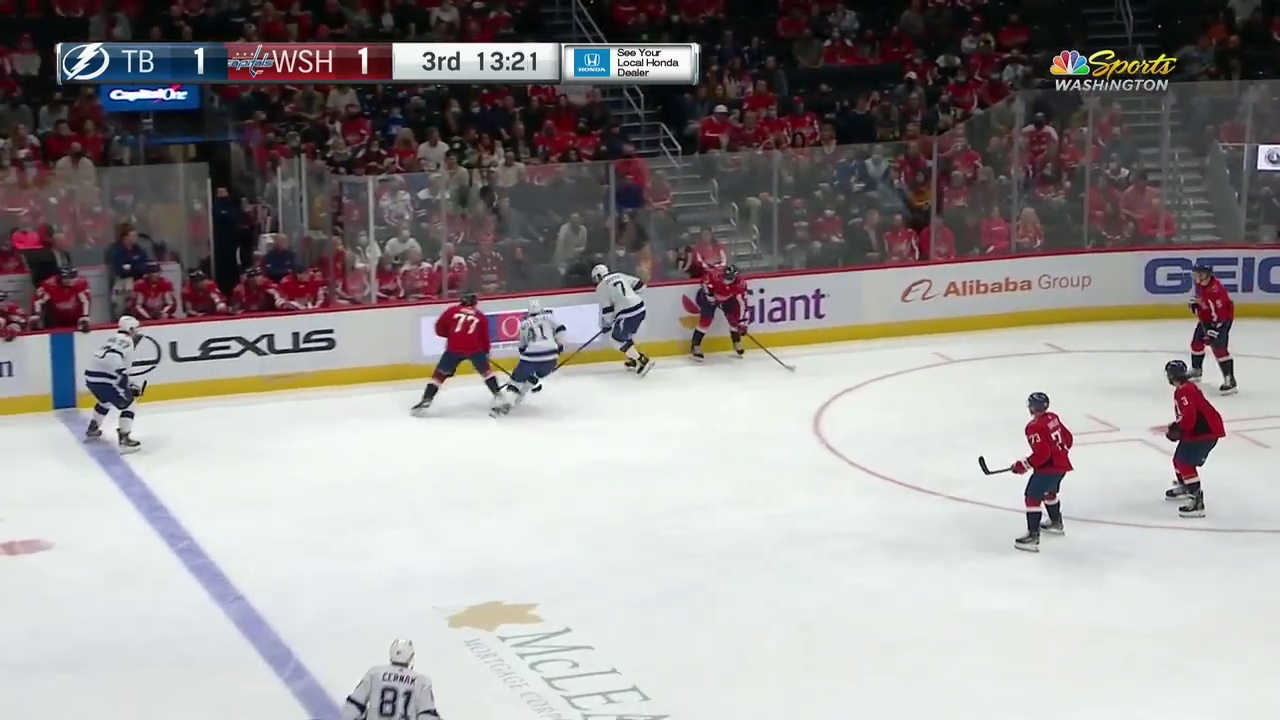hockeyplayer: (411, 292, 500, 415), (1011, 392, 1074, 552), (1165, 360, 1226, 520), (491, 300, 567, 417), (339, 638, 441, 720), (84, 316, 140, 455), (591, 264, 654, 377), (1187, 262, 1237, 396), (690, 265, 749, 362)
